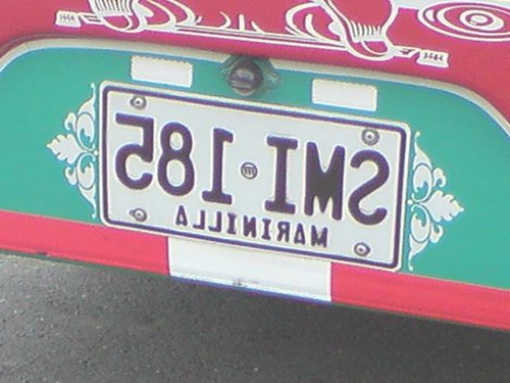placas: (97, 79, 413, 273)
